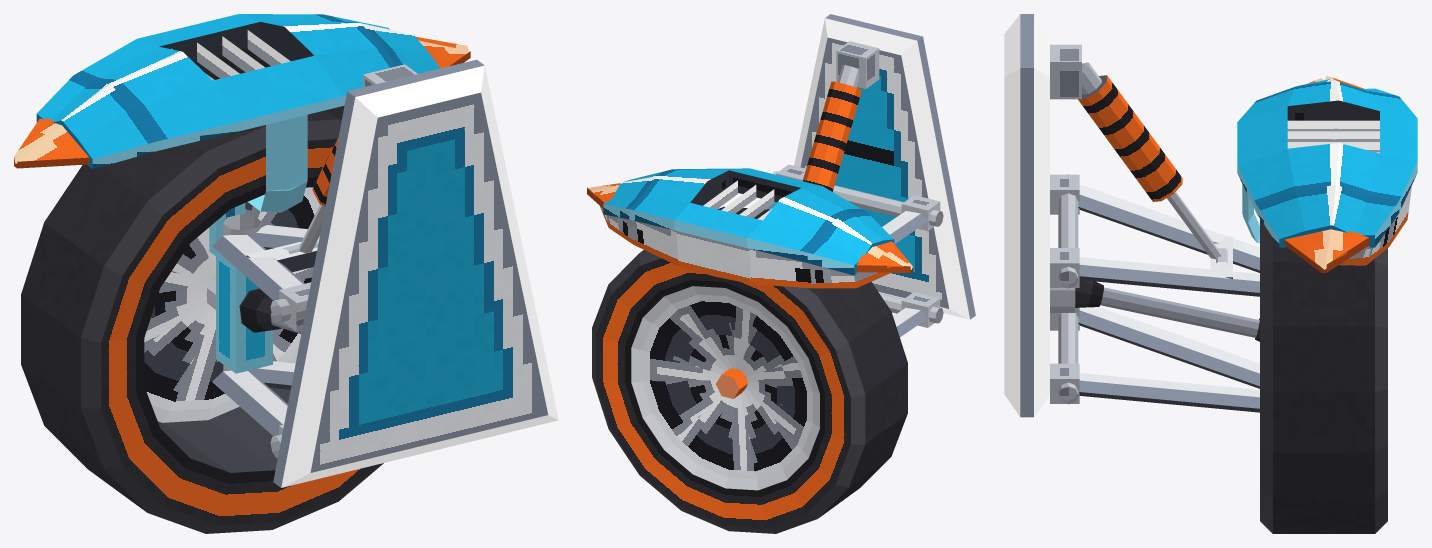
The model's file is aero_e_wheel.glb.
3 views of the same model, side by side, from view 1: azimuth 30°, elevation 25°; view 2: azimuth 150°, elevation 25°; view 3: azimuth 270°, elevation 25° (orthographic). The views are drawn at different scales.
Visible parts, largest first — view 1: aero_e_wheel_mount, aero_e_wheel_tyre, aero_e_wheel_fender, aero_e_wheel_knuckle, aero_e_wheel_arm_up, aero_e_wheel_arm_lo, aero_e_wheel_shaft, aero_e_wheel_dmp_rod, aero_e_wheel_dmp_body; view 2: aero_e_wheel_tyre, aero_e_wheel_fender, aero_e_wheel_mount, aero_e_wheel_dmp_body, aero_e_wheel_arm_up, aero_e_wheel_arm_lo; view 3: aero_e_wheel_tyre, aero_e_wheel_fender, aero_e_wheel_mount, aero_e_wheel_arm_lo, aero_e_wheel_arm_up, aero_e_wheel_dmp_body, aero_e_wheel_shaft, aero_e_wheel_dmp_rod, aero_e_wheel_knuckle.
Boxes of the visible parts, x1,y1,x2,y2 form: aero_e_wheel_mount: (273,59,558,487); aero_e_wheel_tyre: (21,79,383,533); aero_e_wheel_fender: (14,14,470,168); aero_e_wheel_knuckle: (207,114,307,373); aero_e_wheel_arm_up: (212,214,319,322); aero_e_wheel_arm_lo: (212,361,295,457); aero_e_wheel_shaft: (239,288,301,333); aero_e_wheel_dmp_rod: (283,204,325,254); aero_e_wheel_dmp_body: (312,136,338,206); aero_e_wheel_tyre: (592,206,907,533); aero_e_wheel_fender: (587,168,912,288); aero_e_wheel_mount: (776,14,975,327); aero_e_wheel_dmp_body: (802,65,861,191); aero_e_wheel_arm_up: (766,171,943,244); aero_e_wheel_arm_lo: (879,293,943,337); aero_e_wheel_tyre: (1260,219,1387,533); aero_e_wheel_fender: (1237,75,1417,272); aero_e_wheel_mount: (1004,14,1081,417); aero_e_wheel_arm_lo: (1058,307,1259,412); aero_e_wheel_arm_up: (1058,174,1259,296); aero_e_wheel_dmp_body: (1078,62,1182,201); aero_e_wheel_shaft: (1075,280,1259,341); aero_e_wheel_dmp_rod: (1167,192,1227,263); aero_e_wheel_knuckle: (1242,184,1259,243).
Bounding box in the file's own units: 0.98 × 1.15 × 0.905.
1 material, 1 textured.
